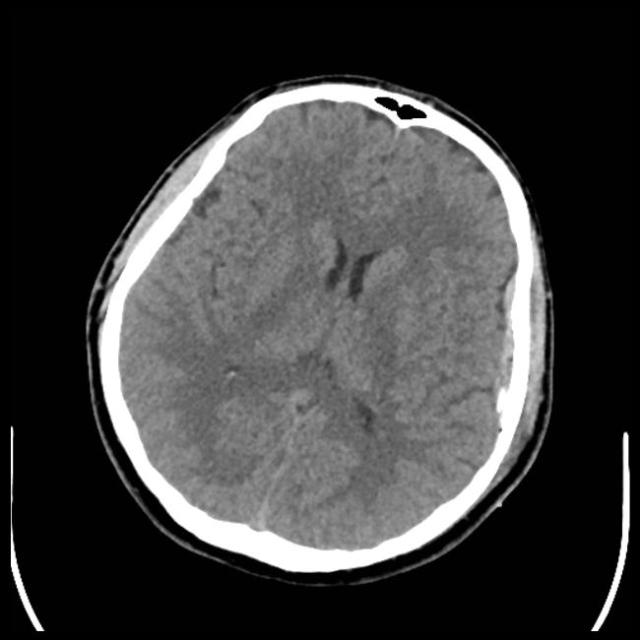lesion: (88, 77, 552, 577)
